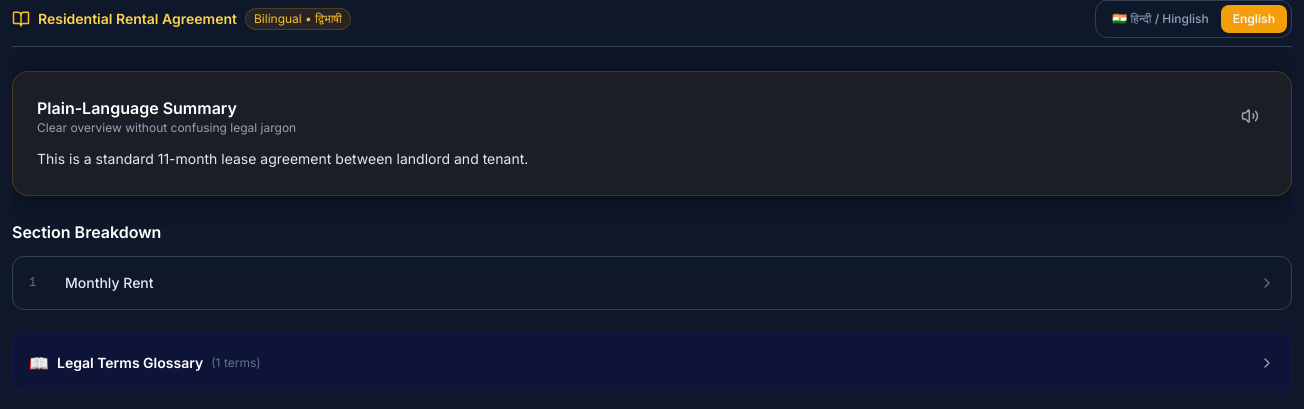
DocumentViewer › switches between English and Hindi when language toggle is clicked
Expected: the text "This is a standard 11-month lease" is shown, [37,150,528,167]
# Click Hindi toggle
Click the button "🇮🇳 हिन्दी / Hinglish".
click(1160, 19)  # box [1100,5,1221,33]
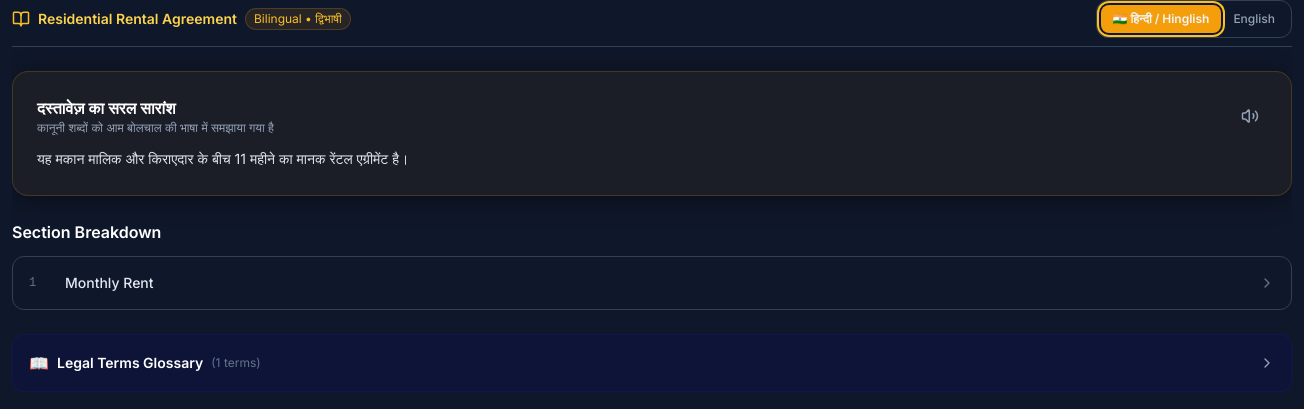
Expected: the text "यह मकान मालिक और किराएदार के बीच 11 महीने का मानक रेंटल एग्रीमेंट है।" is shown, [37,150,408,167]
